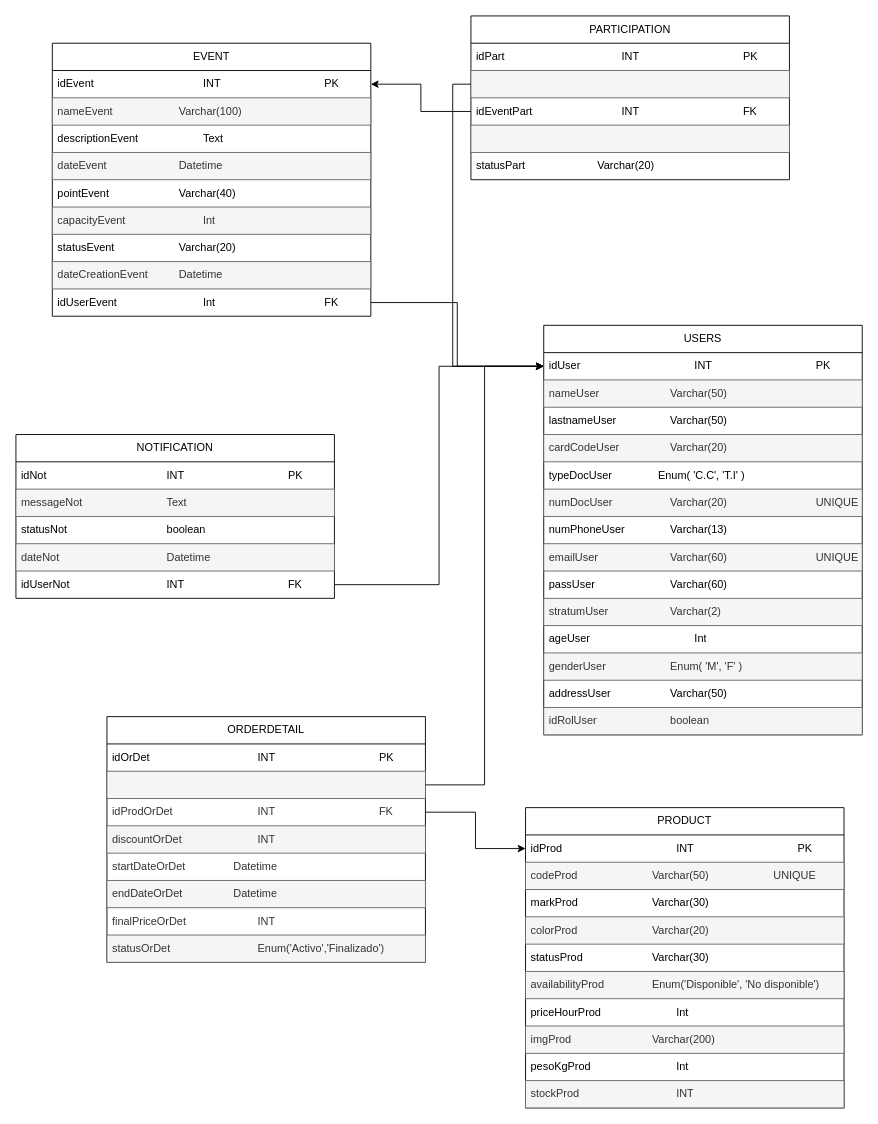
The diagram is 878 pixels wide and 1124 high, and some of its shapes have lost their labels. The shapes that lost their labels are listed below. From the top down, each one's centre as x and y in pixels, then its label:
pixel 629 84: idUserPart INT FK
pixel 629 138: dateRegisPart Datetime
pixel 265 784: idUserOrDet INT FK
